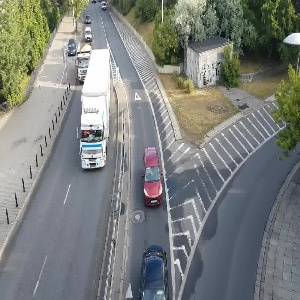car: (137, 137, 165, 223)
semi: (76, 48, 115, 177)
